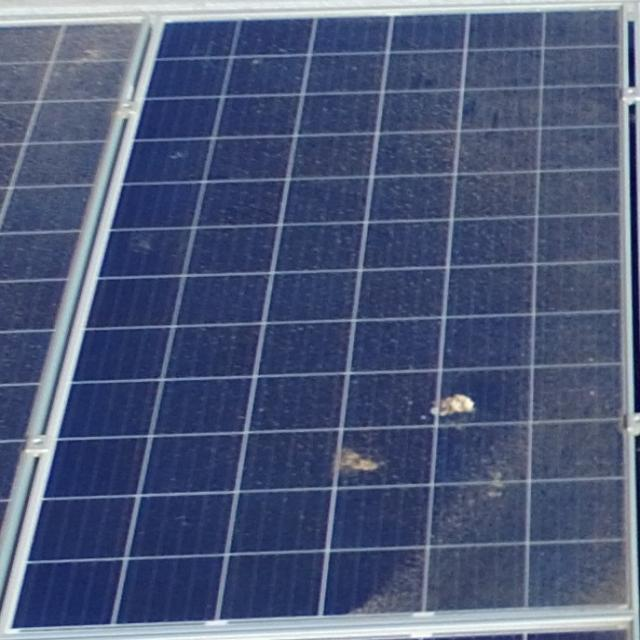Dust: (452, 29, 640, 425), (375, 428, 619, 618), (7, 22, 123, 239)
bird-droppings: (334, 442, 386, 476), (428, 391, 477, 422), (478, 467, 514, 498), (123, 228, 160, 258), (167, 142, 192, 167)
